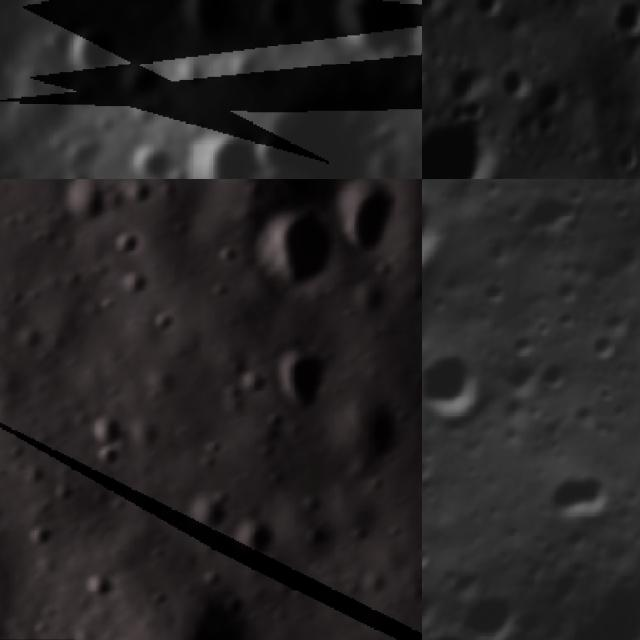crater: (237, 202, 344, 302), (319, 179, 408, 273), (324, 392, 414, 474), (422, 347, 498, 439), (263, 335, 346, 418), (326, 0, 422, 70), (144, 584, 264, 640), (422, 105, 497, 179), (546, 468, 614, 540), (191, 119, 269, 179), (451, 583, 522, 640), (55, 179, 118, 238), (223, 510, 280, 568), (162, 0, 235, 45), (178, 490, 235, 543), (528, 64, 580, 121), (76, 406, 132, 455), (66, 26, 123, 74), (443, 56, 492, 111), (485, 55, 533, 106), (422, 182, 447, 275), (85, 438, 138, 480), (122, 139, 176, 179), (106, 218, 149, 268), (76, 564, 121, 610), (112, 265, 154, 311), (234, 363, 275, 406), (142, 306, 182, 347), (606, 128, 640, 175), (22, 519, 62, 557), (603, 0, 640, 39), (116, 179, 156, 215), (465, 0, 514, 26), (210, 243, 242, 277), (304, 521, 334, 555), (206, 281, 231, 308), (296, 179, 347, 191), (59, 167, 99, 179)
